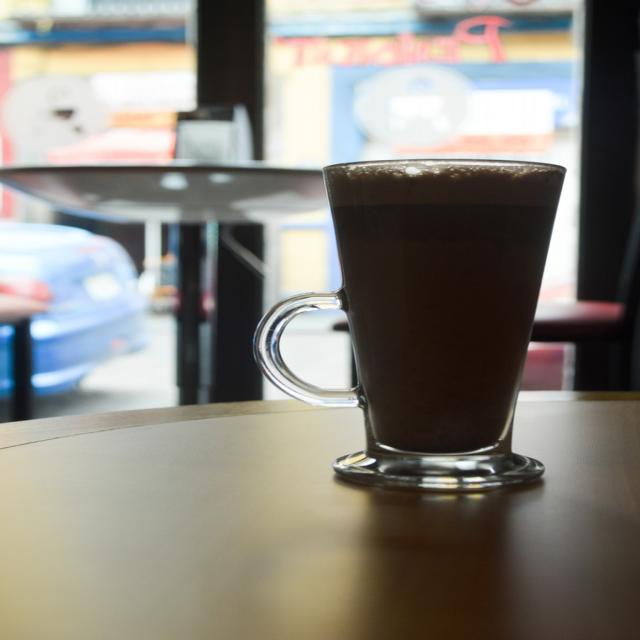Coffee: (319, 159, 571, 453)
